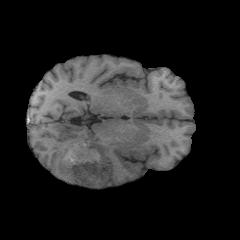glioma: (52, 137, 111, 188)
